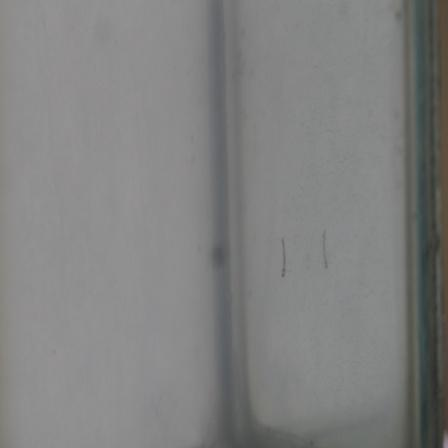Jentik-Nyamuk: (278, 233, 293, 287)
